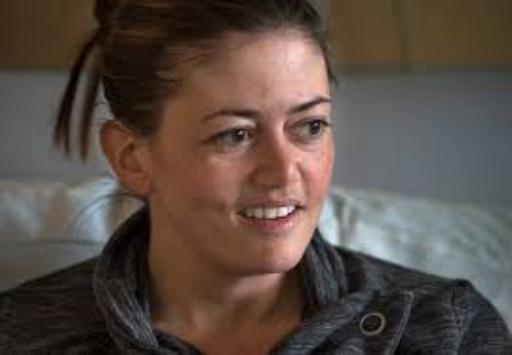left_eye: (292, 120, 331, 141)
left_lip_corner: (295, 204, 312, 217)
right_eye: (205, 127, 259, 148)
right_lip_corner: (230, 204, 248, 224)
